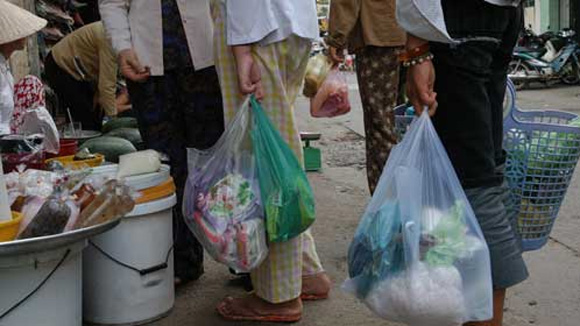plastic bag: (345, 105, 494, 322), (182, 93, 317, 273)
